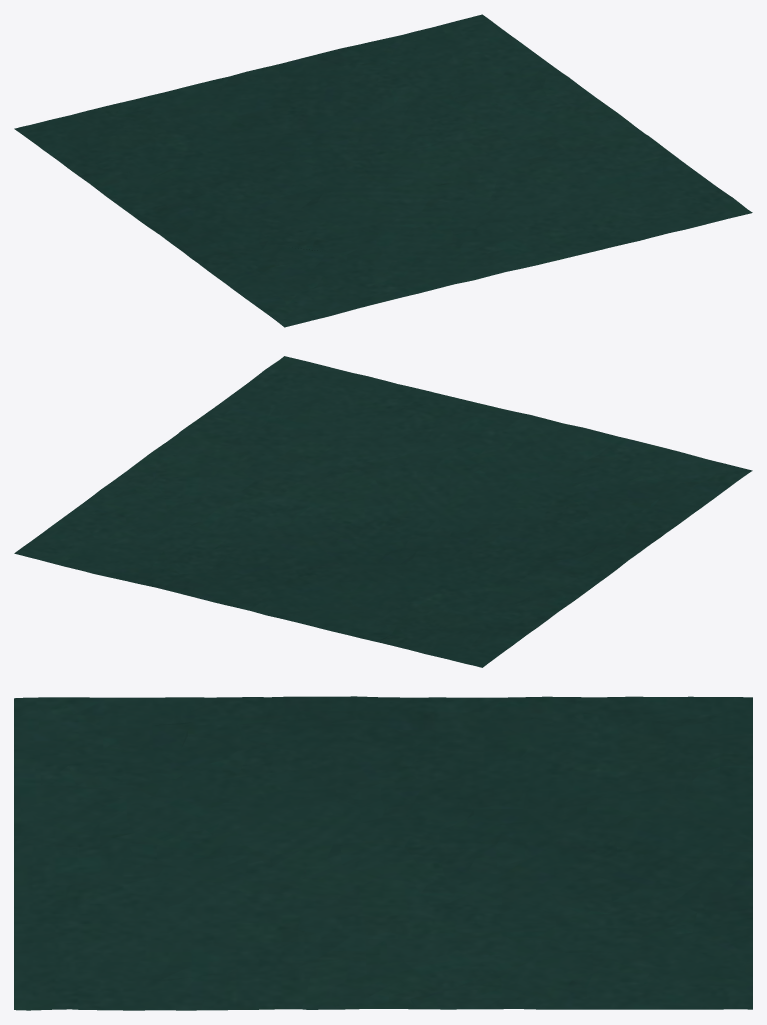
3 views of the same model, one above another, from view 1: azimuth 30°, elevation 25°; view 2: azimuth 150°, elevation 25°; view 3: azimuth 270°, elevation 25° (orthographic). The views are drawn at different scales.
Bounding box in the file's own units: 104 × 0.5627 × 104.
Materials: 3 (3 with a texture image).
